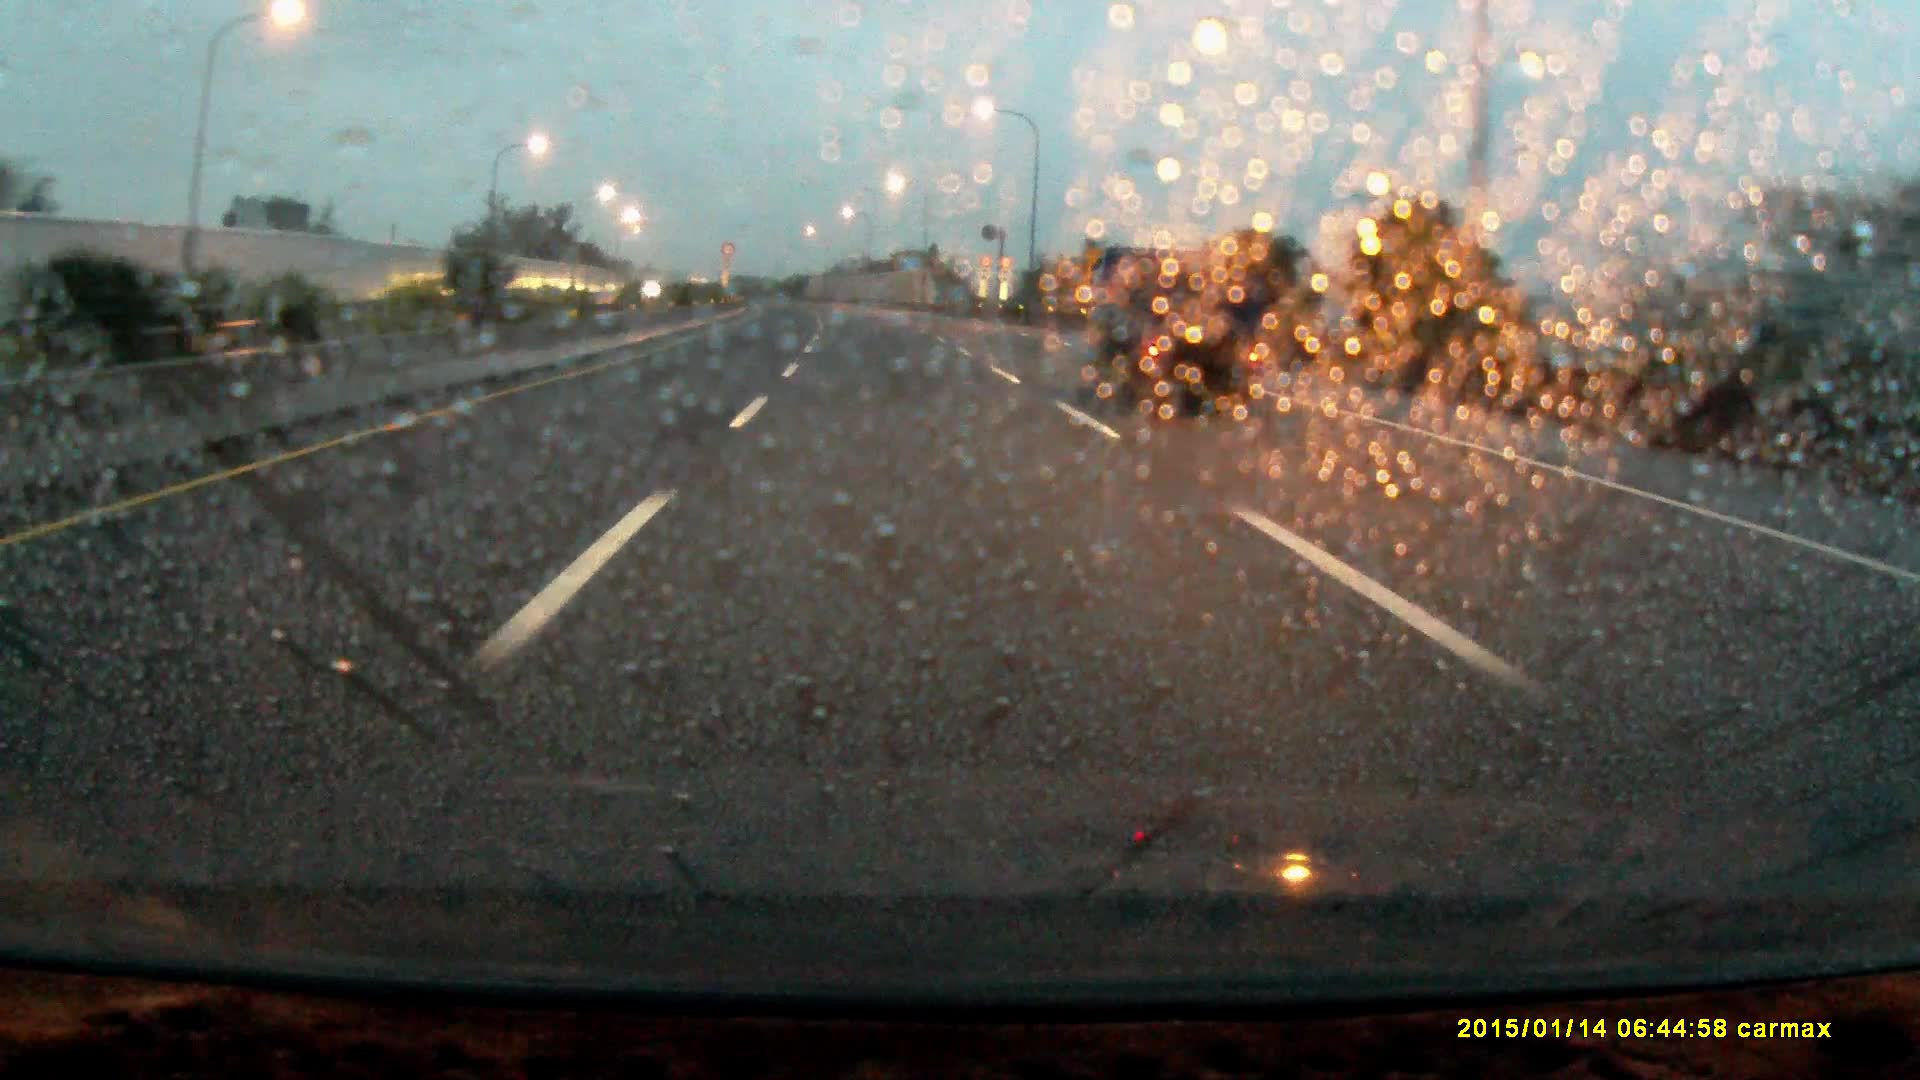vehicle: (1079, 245, 1261, 411)
